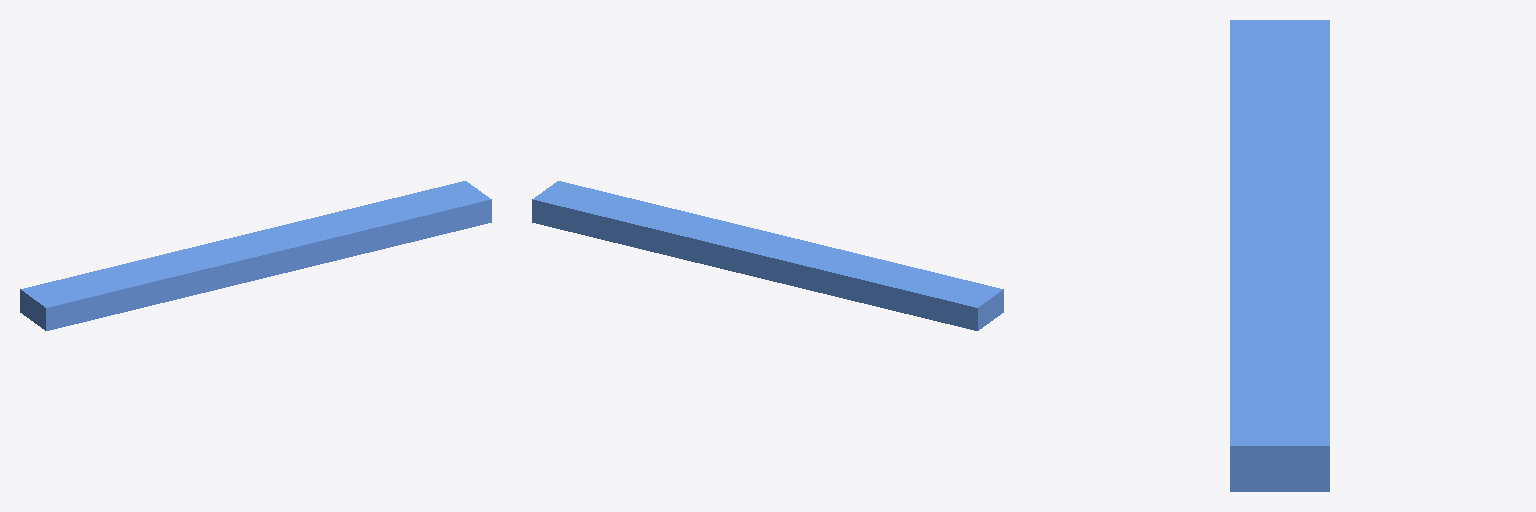
The robot description file, URDF, robot "lbr_iiwa":
<?xml version="1.0" ?>
<!-- ======================================================================= -->
<!-- | This document was autogenerated by xacro from lbr_iiwa.urdf.xacro   | -->
<!-- | Original xacro: https://github.com/rtkg/lbr_iiwa/archive/master.zip | -->
<!-- | EDITING THIS FILE BY HAND IS NOT RECOMMENDED                        | -->
<!-- | Changes ([author]):                                                 | -->
<!-- |   * Removed gazebo tags.                                            | -->
<!-- |   * Removed unused materials.                                       | -->
<!-- |   * Made mesh paths relative.                                       | -->
<!-- |   * Removed material fields from collision segments.                | -->
<!-- |   * Removed the self_collision_checking segment.                    | -->
<!-- |   * Removed transmission segments, since they didn't match the      | -->
<!-- |     convention, will have to added back later.                      | -->
<!-- ======================================================================= -->
<!--LICENSE:                                                                 -->
<!--Copyright (c) 2015, [author] & [author], AASS Research Center,  -->
<!--Orebro University, Sweden                                                -->
<!--All rights reserved.                                                     -->
<!--                                                                         -->
<!--Redistribution and use in source and binary forms, with or without       -->
<!--modification, are permitted provided that the following conditions are   -->
<!--met:                                                                     -->
<!--                                                                         -->
<!--1. Redistributions of source code must retain the above copyright notice,-->
<!--   this list of conditions and the following disclaimer.                 -->
<!--                                                                         -->
<!--2. Redistributions in binary form must reproduce the above copyright     -->
<!--   notice, this list of conditions and the following disclaimer in the   -->
<!--   documentation and/or other materials provided with the distribution.  -->
<!--                                                                         -->
<!--THIS SOFTWARE IS PROVIDED BY THE COPYRIGHT [author] "AS  -->
<!--IS" AND ANY EXPRESS OR IMPLIED WARRANTIES, INCLUDING, BUT NOT LIMITED TO,-->
<!--THE IMPLIED WARRANTIES OF MERCHANTABILITY AND FITNESS FOR A PARTICULAR   -->
<!--PURPOSE ARE DISCLAIMED. IN NO EVENT SHALL THE COPYRIGHT [author]        -->
<!--CONTRIBUTORS BE LIABLE FOR ANY DIRECT, INDIRECT, INCIDENTAL, SPECIAL,    -->
<!--EXEMPLARY, OR CONSEQUENTIAL DAMAGES (INCLUDING, BUT NOT LIMITED TO,      -->
<!--PROCUREMENT OF SUBSTITUTE GOODS OR SERVICES; LOSS OF USE, DATA, OR       -->
<!--PROFITS; OR BUSINESS INTERRUPTION) HOWEVER CAUSED AND ON ANY THEORY OF   -->
<!--LIABILITY, WHETHER IN CONTRACT, STRICT LIABILITY, OR TORT (INCLUDING     -->
<!--NEGLIGENCE OR OTHERWISE) ARISING IN ANY WAY OUT OF THE USE OF THIS       -->
<!--SOFTWARE, EVEN IF ADVISED OF THE POSSIBILITY OF SUCH DAMAGE.             -->
<robot name="lbr_iiwa" xmlns:xacro="http://www.ros.org/wiki/xacro">
  <!-- Import Rviz colors -->
  <material name="Grey">
    <color rgba="0.2 0.2 0.2 1.0"/>
  </material>
  <material name="Orange">
    <color rgba="1.0 0.423529411765 0.0392156862745 1.0"/>
  </material>
  <material name="Blue">
  <color rgba="0.5 0.7 1.0 1.0"/>      
</material>

  <!--Import the lbr iiwa macro -->
  <!--Import Transmissions -->
  <!--Include Utilities -->
  <!--The following macros are adapted from the LWR 4 definitions of the RCPRG - https://github.com/RCPRG-ros-pkg/lwr_robot -->
  <!--Little helper macros to define the inertia matrix needed for links.-->
  <!--Cuboid-->
  <!--Cylinder: length is along the y-axis! -->
  <!--lbr-->
  <link name="lbr_iiwa_link_0">
    <inertial>
      <origin rpy="0 0 0" xyz="-0.1 0 0.07"/>
      <!--Increase mass from 5 Kg original to provide a stable base to carry the
          arm.-->
      <mass value="0.0"/>
      <inertia ixx="0.05" ixy="0" ixz="0" iyy="0.06" iyz="0" izz="0.03"/>
    </inertial>
    <visual>
      <origin rpy="0 0 0" xyz="0 0 0"/>
      <geometry>
        <mesh filename="meshes/link_0.obj"/>
      </geometry>
      <material name="Grey"/>
    </visual>
    <collision>
      <origin rpy="0 0 0" xyz="0 0 0"/>
      <geometry>
        <mesh filename="meshes/link_0.stl"/>
      </geometry>
    </collision>
  </link>
  <!-- joint between link_0 and link_1 -->
  <joint name="lbr_iiwa_joint_1" type="revolute">
    <parent link="lbr_iiwa_link_0"/>
    <child link="lbr_iiwa_link_1"/>
    <origin rpy="0 0 0" xyz="0 0 0.1575"/>
    <axis xyz="0 0 1"/>
    <limit effort="300" lower="-2.96705972839" upper="2.96705972839" velocity="10"/>
    <dynamics damping="0.5"/>
  </joint>
  <link name="lbr_iiwa_link_1">
    <inertial>
      <origin rpy="0 0 0" xyz="0 -0.03 0.12"/>
      <mass value="4"/>
      <inertia ixx="0.1" ixy="0" ixz="0" iyy="0.09" iyz="0" izz="0.02"/>
    </inertial>
    <visual>
      <origin rpy="0 0 0" xyz="0 0 0"/>
      <geometry>
        <mesh filename="meshes/link_1.obj"/>
      </geometry>
      <material name="Blue"/>
    </visual>
    <collision>
      <origin rpy="0 0 0" xyz="0 0 0"/>
      <geometry>
        <mesh filename="meshes/link_1.stl"/>
      </geometry>
    </collision>
  </link>
  <!-- joint between link_1 and link_2 -->
  <joint name="lbr_iiwa_joint_2" type="revolute">
    <parent link="lbr_iiwa_link_1"/>
    <child link="lbr_iiwa_link_2"/>
    <origin rpy="1.57079632679   0 3.14159265359" xyz="0 0 0.2025"/>
    <axis xyz="0 0 1"/>
    <limit effort="300" lower="-2.09439510239" upper="2.09439510239" velocity="10"/>
    <dynamics damping="0.5"/>
  </joint>
  <link name="lbr_iiwa_link_2">
    <inertial>
      <origin rpy="0 0 0" xyz="0.0003 0.059 0.042"/>
      <mass value="4"/>
      <inertia ixx="0.05" ixy="0" ixz="0" iyy="0.018" iyz="0" izz="0.044"/>
    </inertial>
    <visual>
      <origin rpy="0 0 0" xyz="0 0 0"/>
      <geometry>
        <mesh filename="meshes/link_2.obj"/>
      </geometry>
      <material name="Blue"/>
    </visual>
    <collision>
      <origin rpy="0 0 0" xyz="0 0 0"/>
      <geometry>
        <mesh filename="meshes/link_2.stl"/>
      </geometry>
    </collision>
  </link>
  <!-- joint between link_2 and link_3 -->
  <joint name="lbr_iiwa_joint_3" type="revolute">
    <parent link="lbr_iiwa_link_2"/>
    <child link="lbr_iiwa_link_3"/>
    <origin rpy="1.57079632679 0 3.14159265359" xyz="0 0.2045 0"/>
    <axis xyz="0 0 1"/>
    <limit effort="300" lower="-2.96705972839" upper="2.96705972839" velocity="10"/>
    <dynamics damping="0.5"/>
  </joint>
  <link name="lbr_iiwa_link_3">
    <inertial>
      <origin rpy="0 0 0" xyz="0 0.03 0.13"/>
      <mass value="3"/>
      <inertia ixx="0.08" ixy="0" ixz="0" iyy="0.075" iyz="0" izz="0.01"/>
    </inertial>
    <visual>
      <origin rpy="0 0 0" xyz="0 0 0"/>
      <geometry>
        <mesh filename="meshes/link_3.obj"/>
      </geometry>
      <material name="Orange"/>
    </visual>
    <collision>
      <origin rpy="0 0 0" xyz="0 0 0"/>
      <geometry>
        <mesh filename="meshes/link_3.stl"/>
      </geometry>
    </collision>
  </link>
  <!-- joint between link_3 and link_4 -->
  <joint name="lbr_iiwa_joint_4" type="revolute">
    <parent link="lbr_iiwa_link_3"/>
    <child link="lbr_iiwa_link_4"/>
    <origin rpy="1.57079632679 0 0" xyz="0 0 0.2155"/>
    <axis xyz="0 0 1"/>
    <limit effort="300" lower="-2.09439510239" upper="2.09439510239" velocity="10"/>
    <dynamics damping="0.5"/>
  </joint>
  <link name="lbr_iiwa_link_4">
    <inertial>
      <origin rpy="0 0 0" xyz="0 0.067 0.034"/>
      <mass value="2.7"/>
      <inertia ixx="0.03" ixy="0" ixz="0" iyy="0.01" iyz="0" izz="0.029"/>
    </inertial>
    <visual>
      <origin rpy="0 0 0" xyz="0 0 0"/>
      <geometry>
        <mesh filename="meshes/link_4.obj"/>
      </geometry>
      <material name="Blue"/>
    </visual>
    <collision>
      <origin rpy="0 0 0" xyz="0 0 0"/>
      <geometry>
        <mesh filename="meshes/link_4.stl"/>
      </geometry>
    </collision>
  </link>
  <!-- joint between link_4 and link_5 -->
  <joint name="lbr_iiwa_joint_5" type="revolute">
    <parent link="lbr_iiwa_link_4"/>
    <child link="lbr_iiwa_link_5"/>
    <origin rpy="-1.57079632679 3.14159265359 0" xyz="0 0.1845 0"/>
    <axis xyz="0 0 1"/>
    <limit effort="300" lower="-2.96705972839" upper="2.96705972839" velocity="10"/>
    <dynamics damping="0.5"/>
  </joint>
  <link name="lbr_iiwa_link_5">
    <inertial>
      <origin rpy="0 0 0" xyz="0.0001 0.021 0.076"/>
      <mass value="1.7"/>
      <inertia ixx="0.02" ixy="0" ixz="0" iyy="0.018" iyz="0" izz="0.005"/>
    </inertial>
    <visual>
      <origin rpy="0 0 0" xyz="0 0 0"/>
      <geometry>
        <mesh filename="meshes/link_5.obj"/>
      </geometry>
      <material name="Blue"/>
    </visual>
    <collision>
      <origin rpy="0 0 0" xyz="0 0 0"/>
      <geometry>
        <mesh filename="meshes/link_5.stl"/>
      </geometry>
    </collision>
  </link>
  <!-- joint between link_5 and link_6 -->
  <joint name="lbr_iiwa_joint_6" type="revolute">
    <parent link="lbr_iiwa_link_5"/>
    <child link="lbr_iiwa_link_6"/>
    <origin rpy="1.57079632679 0 0" xyz="0 0 0.2155"/>
    <axis xyz="0 0 1"/>
    <limit effort="300" lower="-2.09439510239" upper="2.09439510239" velocity="10"/>
    <dynamics damping="0.5"/>
  </joint>
  <link name="lbr_iiwa_link_6">
    <inertial>
      <origin rpy="0 0 0" xyz="0 0.0006 0.0004"/>
      <mass value="1.8"/>
      <inertia ixx="0.005" ixy="0" ixz="0" iyy="0.0036" iyz="0" izz="0.0047"/>
    </inertial>
    <visual>
      <origin rpy="0 0 0" xyz="0 0 0"/>
      <geometry>
        <mesh filename="meshes/link_6.obj"/>
      </geometry>
      <material name="Orange"/>
    </visual>
    <collision>
      <origin rpy="0 0 0" xyz="0 0 0"/>
      <geometry>
        <mesh filename="meshes/link_6.stl"/>
      </geometry>
    </collision>
  </link>
  <!-- joint between link_6 and link_7 -->
  <joint name="lbr_iiwa_joint_7" type="revolute">
    <parent link="lbr_iiwa_link_6"/>
    <child link="lbr_iiwa_link_7"/>
    <origin rpy="-1.57079632679 3.14159265359 0" xyz="0 0.081 0"/>
    <axis xyz="0 0 1"/>
    <limit effort="300" lower="-3.05432619099" upper="3.05432619099" velocity="10"/>
    <dynamics damping="0.5"/>
  </joint>
  <link name="lbr_iiwa_link_7">
    <inertial>
      <origin rpy="0 0 0" xyz="0 0 0.02"/>
      <mass value="0.3"/>
      <inertia ixx="0.001" ixy="0" ixz="0" iyy="0.001" iyz="0" izz="0.001"/>
    </inertial>
    <visual>
      <origin rpy="0 0 0" xyz="0 0 0"/>
      <geometry>
        <mesh filename="meshes/link_7.obj"/>
      </geometry>
      <material name="Grey"/>
    </visual>
    <collision>
      <origin rpy="0 0 0" xyz="0 0 0"/>
      <geometry>
        <mesh filename="meshes/link_7.stl"/>
      </geometry>
    </collision>
  </link>
  <joint name="paddle_joint" type="revolute">
    <parent link="lbr_iiwa_link_7"/>
    <child link="paddle_link"/>
    <origin rpy="0 0 0" xyz="0 0 0.045"/>
    <axis xyz="0 0 1"/>
    <limit effort="300" lower="-3.05432619099" upper="3.05432619099" velocity="10"/>
    <dynamics damping="0.5"/>
  </joint>
  <link name="paddle_link">
    <visual>
      <geometry>
        <box size="1.0 0.1 0.05"/>
      </geometry>
      <origin rpy="0 0 0" xyz="0.0 0 0.3"/>
      <material name="Blue"/>
    </visual>
    <collision>
      <geometry>
        <box size="1.0 0.1 0.05"/>
      </geometry>
      <origin rpy="0 0 0" xyz="0.5 0 0"/>
    </collision>
    <inertial>
      <mass value="2.5"/>
      <inertia ixx="0.00208333333333" ixy="0.0125" ixz="0.00625" iyy="0.167083333333" iyz="0.000625" izz="0.168333333333"/>
    </inertial>
  </link>
</robot>

--- Render facts (derived) ---
The picture shows the robot from 3 angles, left to right: view 1: azimuth 30°, elevation 25°; view 2: azimuth 150°, elevation 25°; view 3: azimuth 270°, elevation 25°; orthographic projection.
Robot: lbr_iiwa — 9 links, 8 joints (8 revolute); root link lbr_iiwa_link_0; default pose: every joint at zero.
Links seen in each view (by area): view 1: paddle_link; view 2: paddle_link; view 3: paddle_link.
Boxes of the visible links, bbox=[...] form: paddle_link: bbox=[20, 181, 491, 330]; paddle_link: bbox=[532, 181, 1003, 330]; paddle_link: bbox=[1230, 20, 1329, 491].
Bounding box of the posed robot: 1 × 0.1 × 0.05 m (x, y, z).
0 mesh visuals loaded from 8 distinct referenced files (none loaded); not drawn: 8 (reference not matched to a file when rendering).